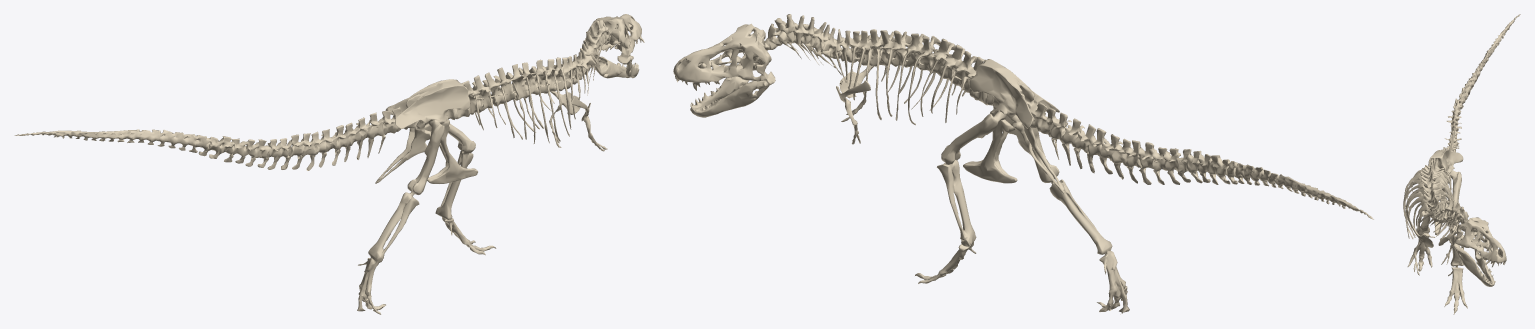
File: tyrannosaurus.glb
The picture shows the model from 3 angles, left to right: view 1: azimuth 30°, elevation 25°; view 2: azimuth 150°, elevation 25°; view 3: azimuth 270°, elevation 25°; orthographic projection. The views are drawn at different scales.
Visible parts, largest first — view 1: T. rex; view 2: T. rex; view 3: T. rex.
Boxes of the visible parts, x1,y1,x2,y2 form: T. rex: (14, 14, 644, 314); T. rex: (673, 14, 1373, 314); T. rex: (1403, 14, 1520, 314).
Size of the model in its own units: 9.99 by 3.29 by 2.21.
